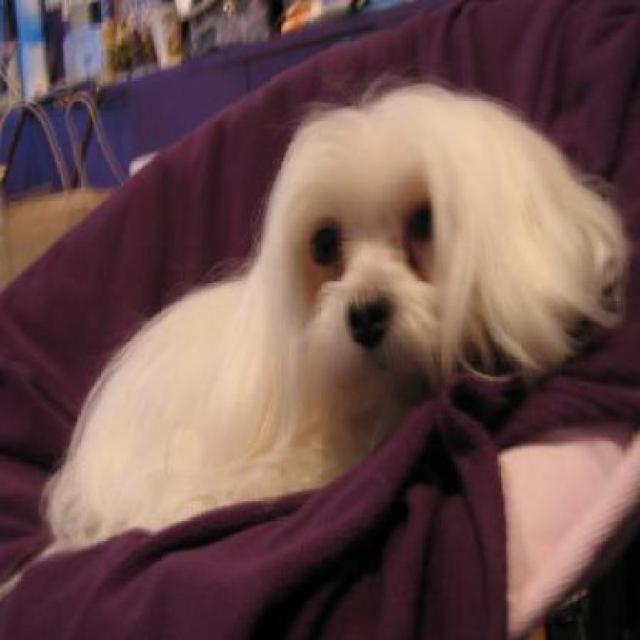Dog: (40, 66, 634, 549)
